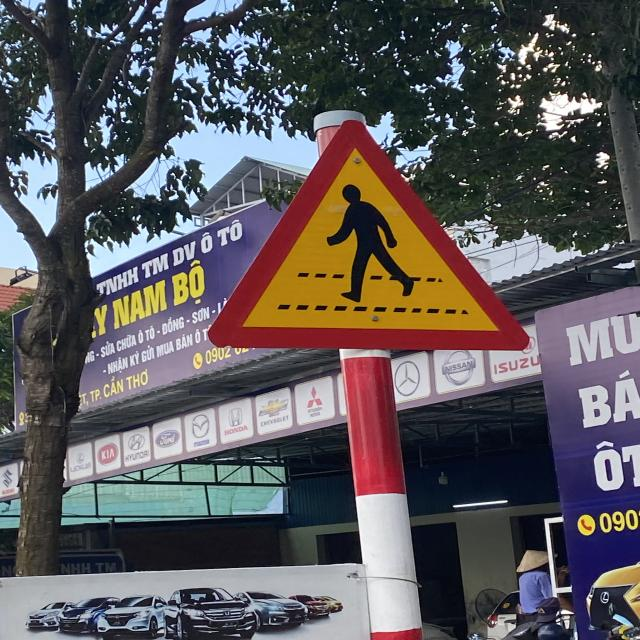Duong_Nguoi_Di_Bo_Sang_Ngang: (210, 120, 529, 348)
